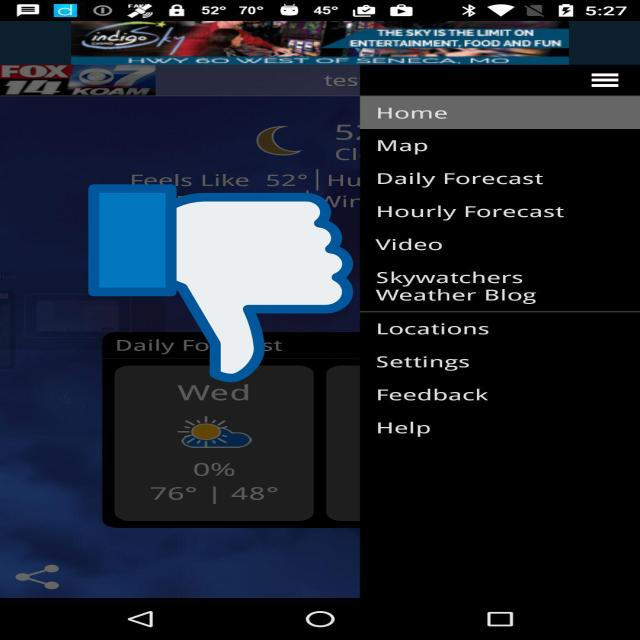obstruction: (88, 180, 353, 387)
